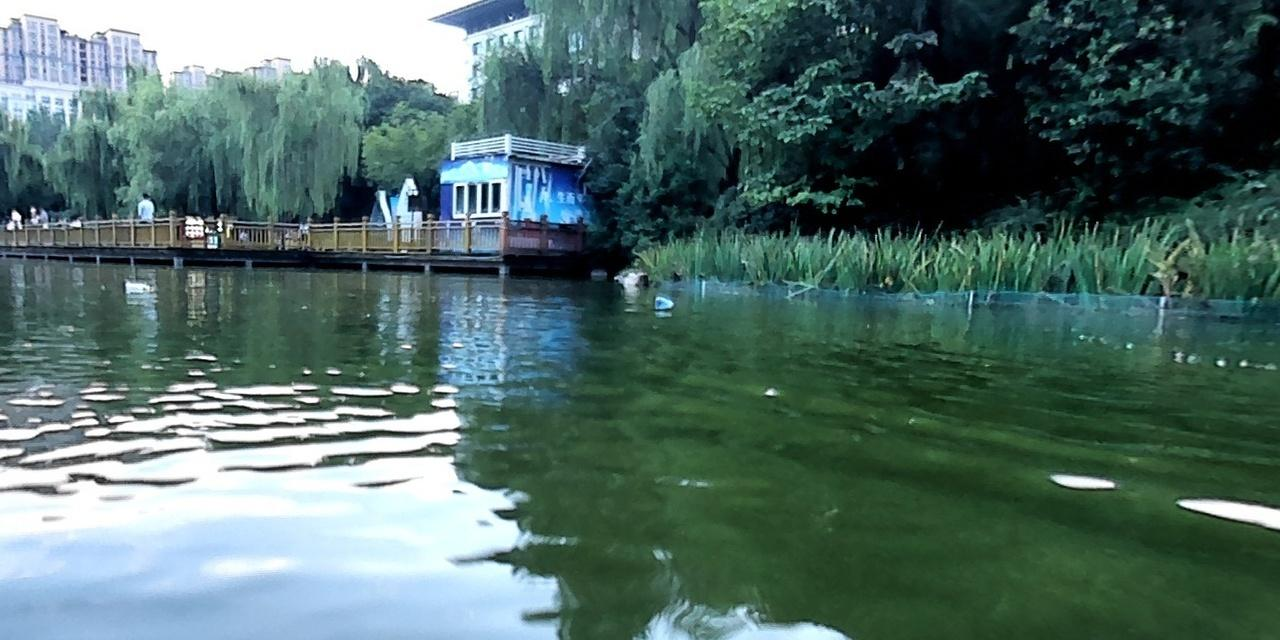bottle: (653, 295, 674, 309)
